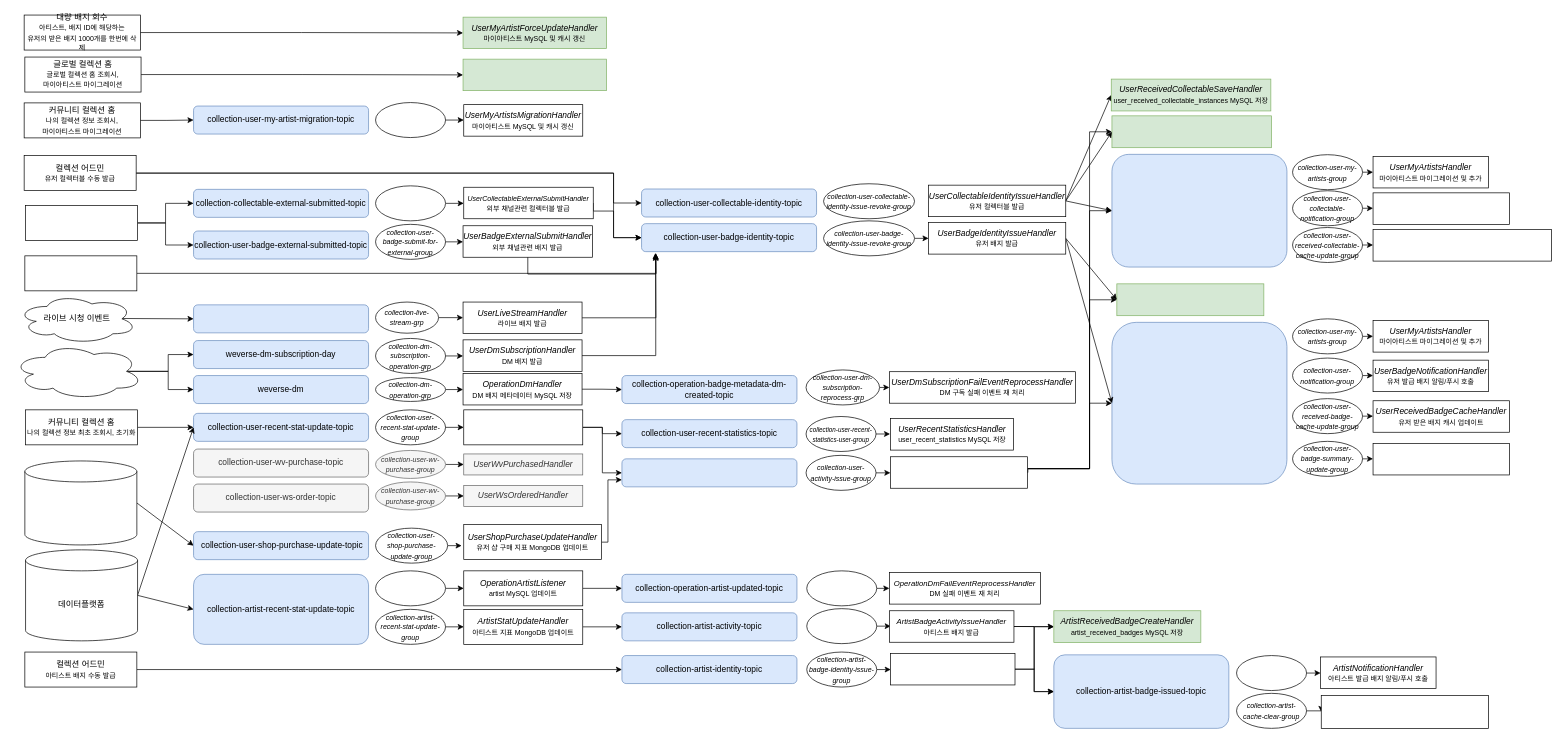
Image size: 1564x741. Some labels were removed from this diagram. The centre of each missing label's shape, as x and y in pixels:
"ArtistBadgeIdentityIssueHandler 아티스트 배지 발급" goes at point 952,669.
"ArtistReceivedBadgeCacheClearHandler 아티스트가 받은 배지 캐시 evict" goes at point 1405,711.
"collection-artist-activity-issue-group" goes at point 841,626.
"collection-artist-notification-group" goes at point 1271,673.
"collection-artist-stat-operation-grp" goes at point 410,588.
"collection-collectable-external-submitted-group" goes at point 410,203.
"collection-operation- dm-reprocess-grp" goes at point 841,588.
"collection-user- my-artists-migration-group" goes at point 410,120.
"collection-user-activity-topic" goes at point 709,472.
"collection-user-badge-issued-topic" goes at point 1199,403.
"collection-user-collectable-issued-topic" goes at point 1199,210.
"DM 구독 이벤트" goes at point 77,371.
"UserBadgeSummaryUpdateHandler user_badge_summary MySQL 저장" goes at point 1441,459.
"UserCollectableNotificationHandler 유저 발급 컬렉티블 알림/푸시 호출" goes at point 1441,208.
"UserCollectionActivityIssueHandler 유저 배지 및 컬렉터블 에약 혹은 발급" goes at point 959,472.
"UserMyArtistsMigrationEventHandler 마이아티스트 MySQL 및 캐시 갱신" goes at point 534,74.
"UserReceivedBadgeCreateHandler user_received_badges MySQL 저장" goes at point 1190,299.
"UserReceivedCollectableCacheUpdateHandler 유저 받은 컬렉터블 캐시 정보 갱신" goes at point 1462,245.
"UserReceivedCollectableSaveHandler user_received_collectables MySQL 저장" goes at point 1191,131.
"UserStatUpdateHandler 유저 지표 MongoDB 업데이트" goes at point 523,427.
"weverse-media-action" goes at point 281,318.
"컬렉션 데이터플랫폼" goes at point 80,502.
"컬렉션 어드민 유저 배지 수동 발급" goes at point 80,273.
"쿠폰, 설문, 투표 어드민" goes at point 81,222.
